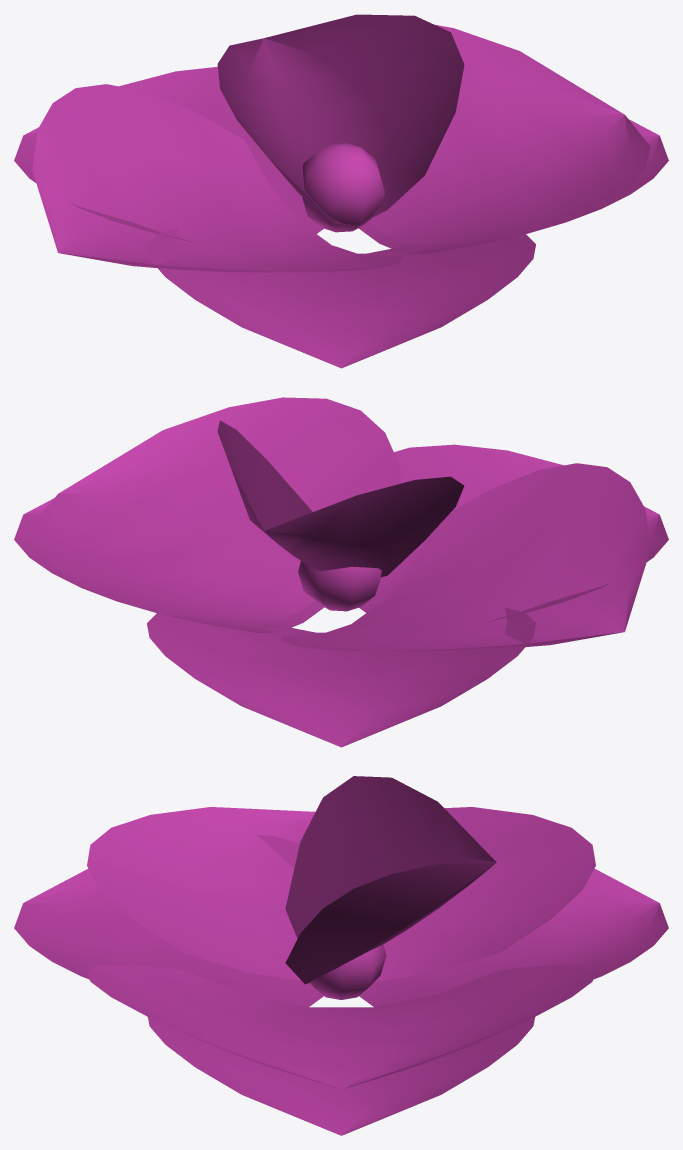
File: orchid.glb
3 views of the same model, one above another, from view 1: azimuth 30°, elevation 25°; view 2: azimuth 150°, elevation 25°; view 3: azimuth 270°, elevation 25° (orthographic).
Parts seen in each view (by area): view 1: orchid; view 2: orchid; view 3: orchid.
Boxes of the visible parts, x1,y1,x2,y2 form: orchid: [14, 14, 668, 368]; orchid: [14, 397, 668, 747]; orchid: [14, 776, 668, 1135].
Bounding box in the file's own units: 0.0925 × 0.0269 × 0.0872.
